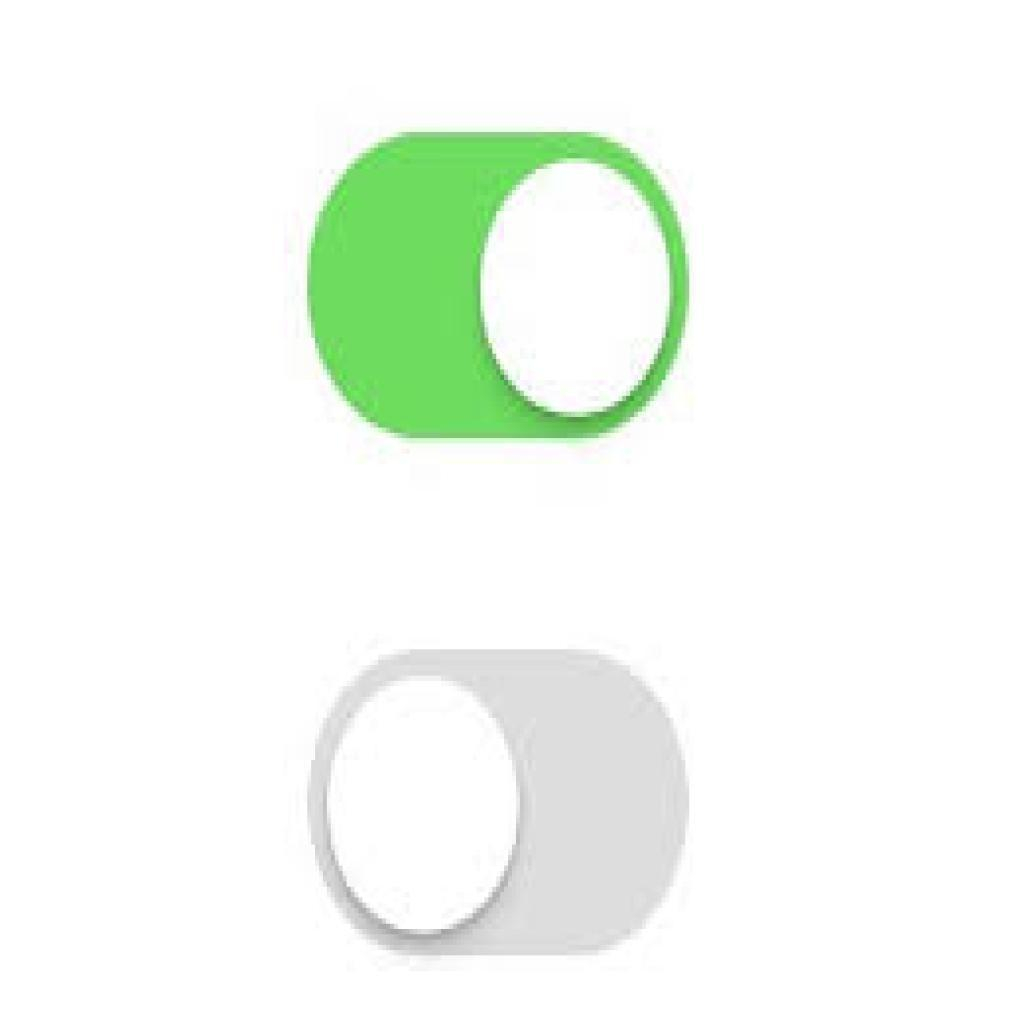switch: (305, 131, 688, 437), (307, 647, 690, 953)
